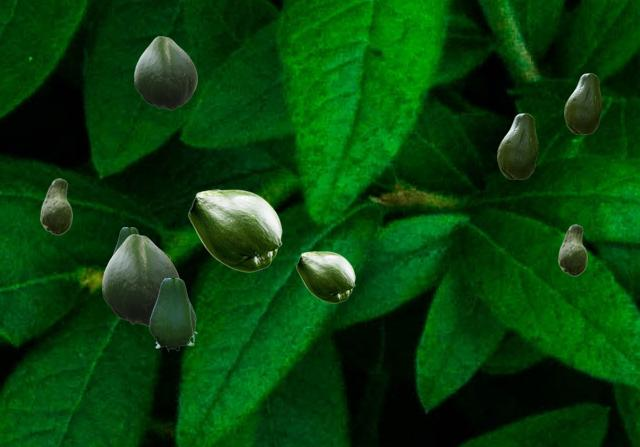sayote: (188, 189, 281, 271), (102, 234, 179, 325), (134, 36, 196, 109), (149, 278, 196, 351), (296, 251, 354, 302), (497, 113, 537, 178), (564, 73, 601, 133), (40, 178, 71, 234), (558, 224, 586, 275), (112, 227, 139, 254)
